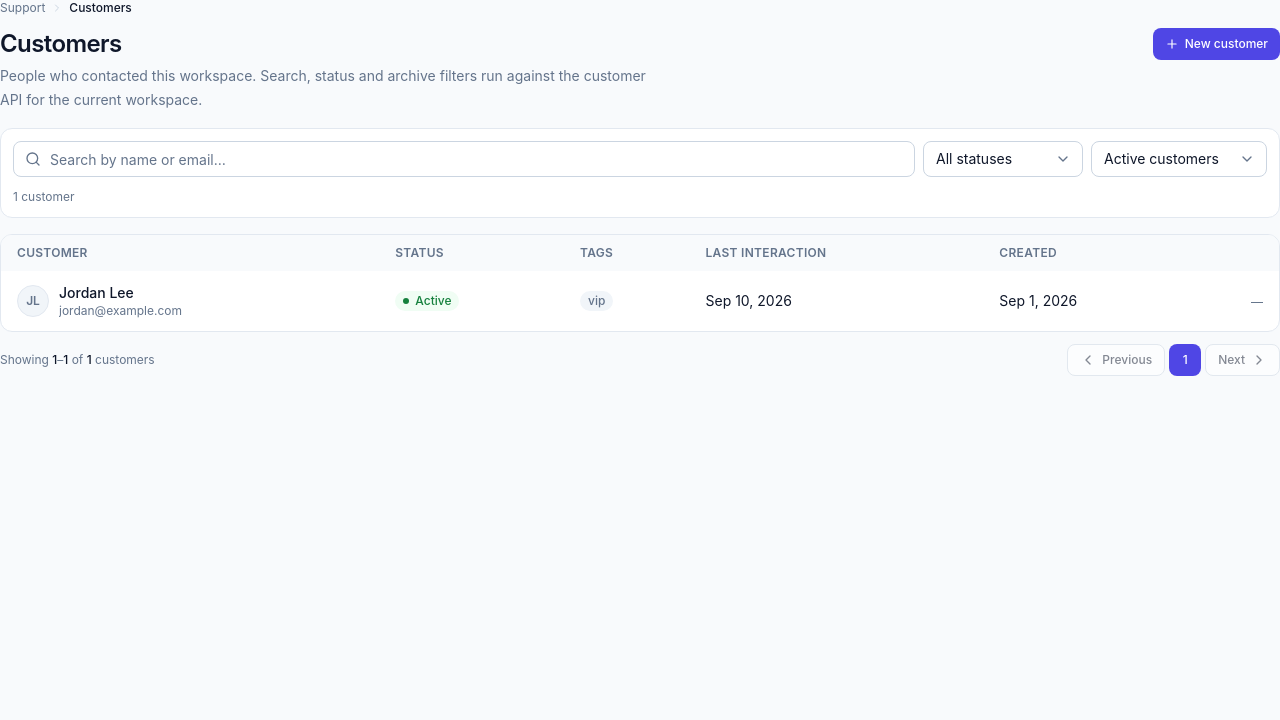
CustomersPage › creates a customer through the API and refreshes the list
The width and height of the screenshot is (1280, 720).
Expected: the link "Jordan Lee" is shown, [59,284,134,301]
Click the button "New customer". click: (1216, 44)
box: [1153,28,1279,60]
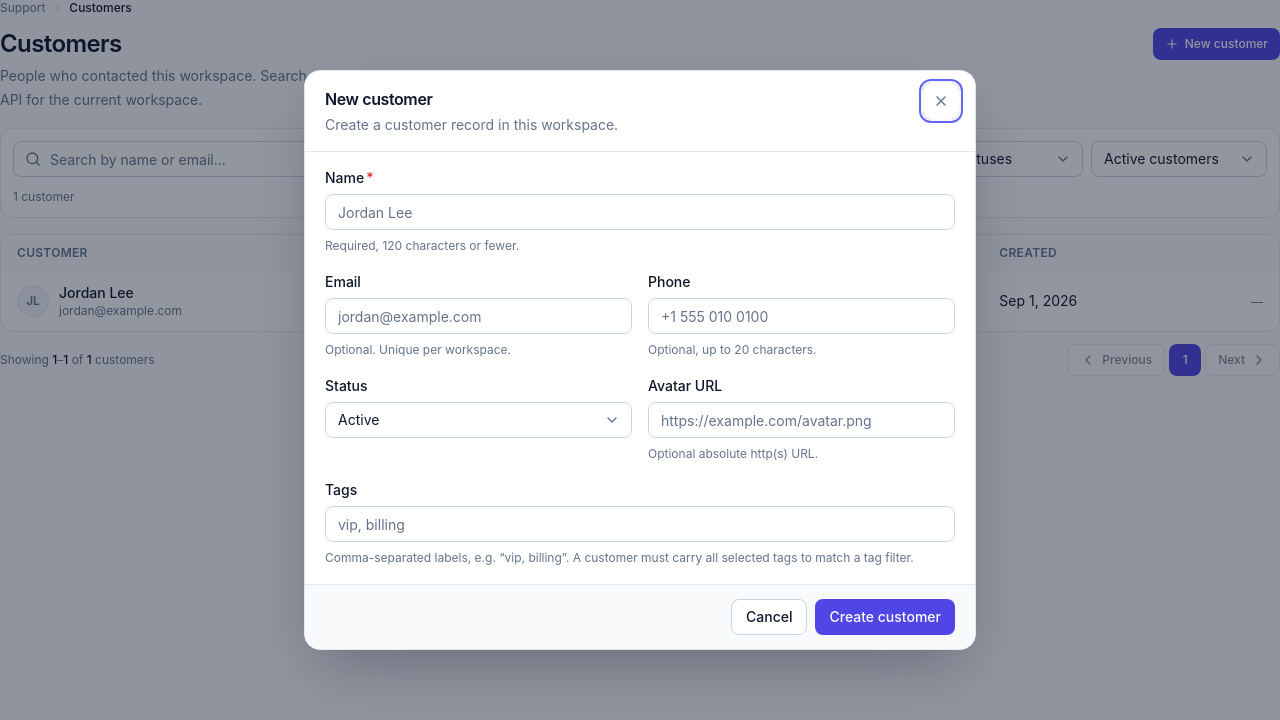
Type "New Person" into the field labelled "Name*". click: (640, 212)
box: [325,194,955,230]
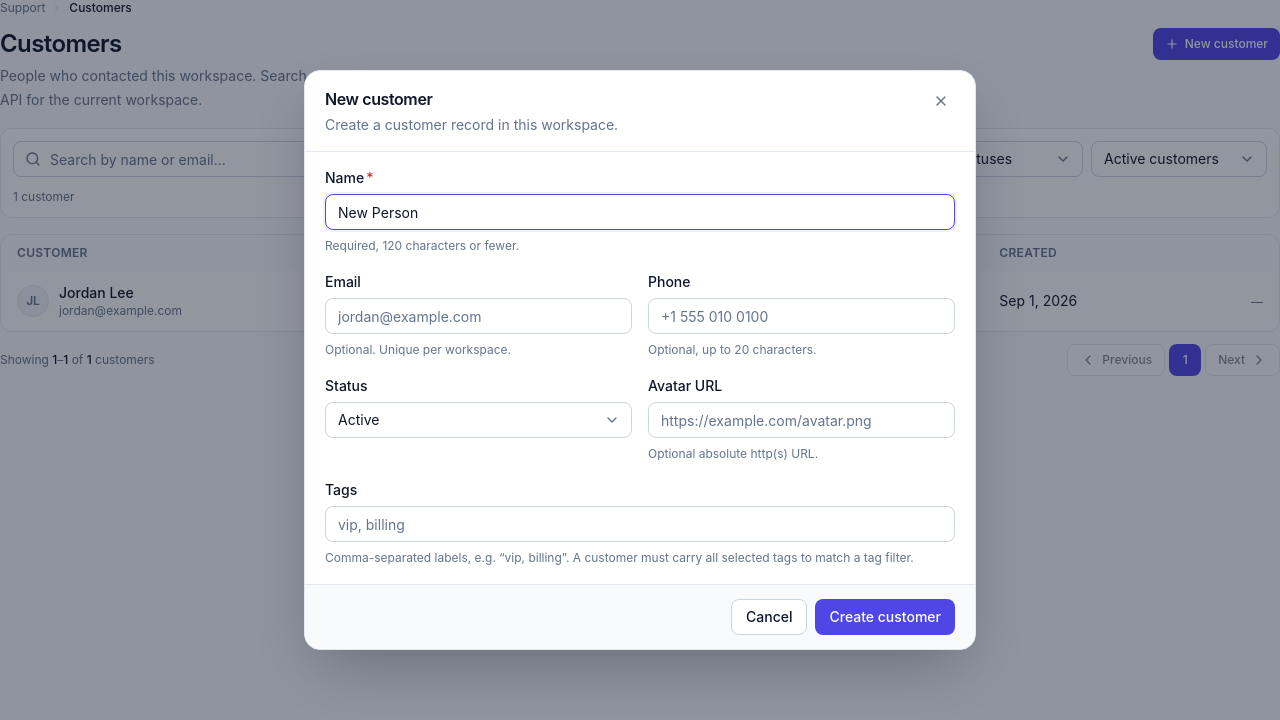
Click the button "Create customer". click: (885, 617)
box: [816,599,955,635]
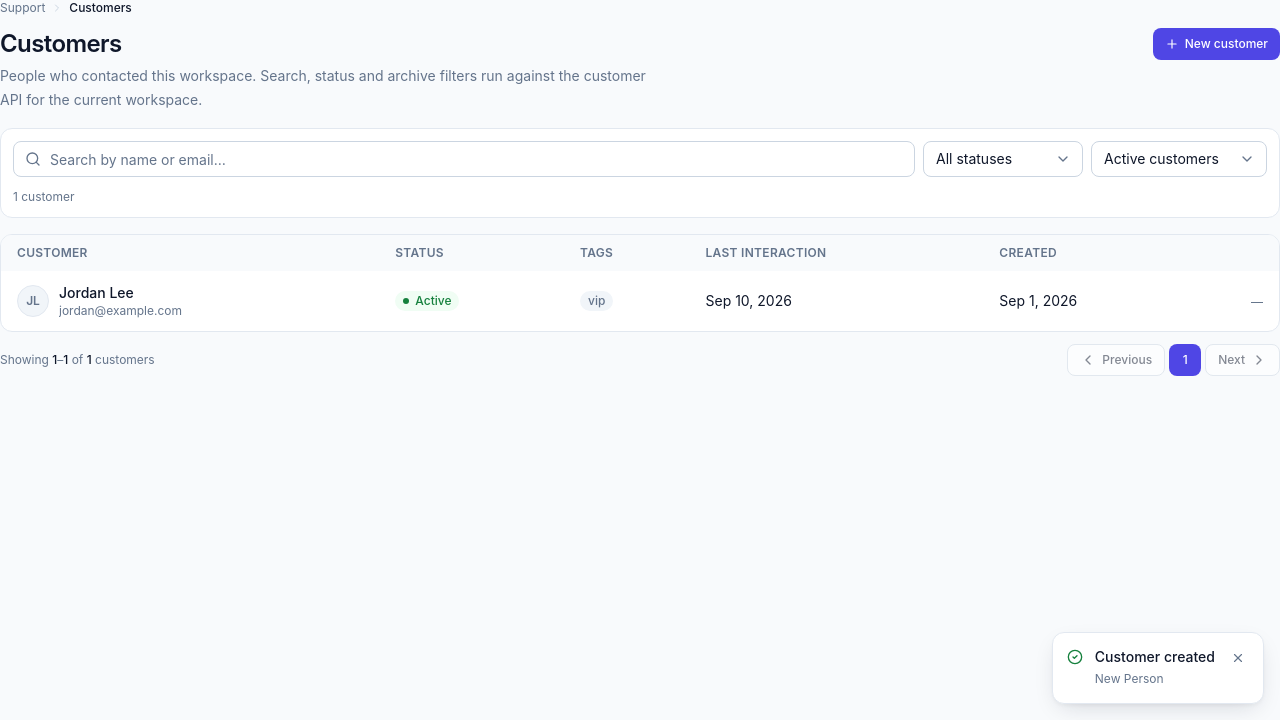
Expected: the dialog is gone
